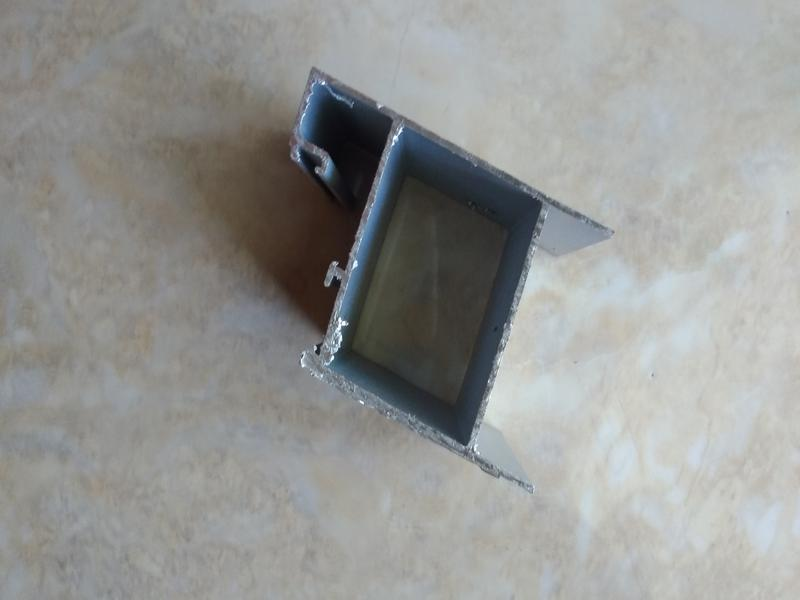Aluminium_2: (233, 32, 649, 511)
